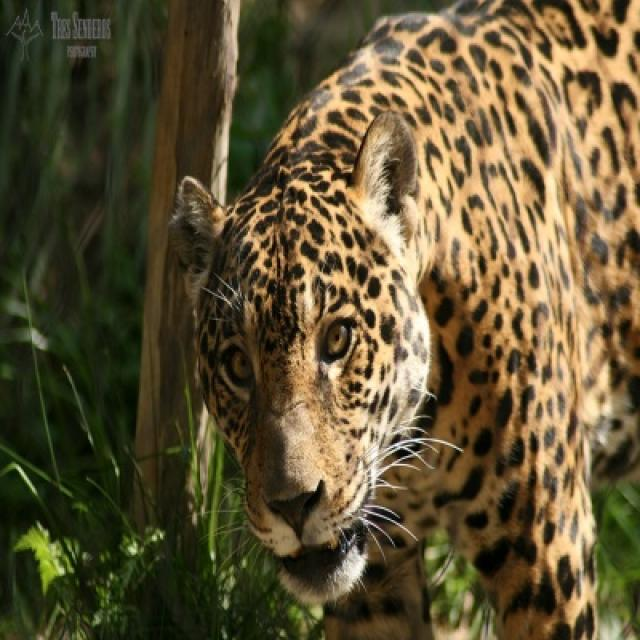Jaguar: (192, 0, 638, 638)
